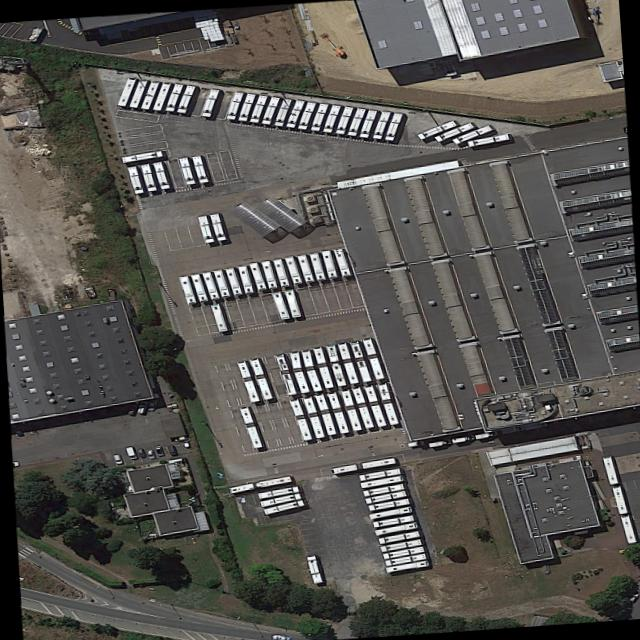large-vehicle: (329, 455, 396, 473), (226, 474, 292, 492), (237, 404, 262, 447), (248, 356, 272, 399), (287, 397, 311, 440), (362, 383, 386, 426), (235, 359, 259, 401), (313, 392, 337, 434), (349, 385, 373, 427), (298, 347, 321, 390), (375, 381, 398, 424), (325, 390, 348, 433), (338, 387, 361, 430), (348, 339, 371, 381), (335, 341, 358, 383), (273, 352, 296, 394), (301, 395, 324, 437), (287, 349, 309, 392), (361, 336, 383, 378), (311, 345, 333, 387), (432, 120, 476, 141), (324, 343, 345, 385), (450, 123, 493, 143), (415, 118, 458, 138), (261, 498, 306, 514), (372, 520, 418, 535), (366, 504, 412, 519), (258, 491, 303, 506), (363, 488, 408, 503), (377, 528, 421, 543), (255, 484, 301, 498), (384, 558, 429, 572), (358, 473, 403, 487), (383, 551, 428, 565), (378, 537, 423, 551), (366, 496, 411, 510), (361, 481, 406, 495), (381, 544, 425, 558), (371, 513, 415, 527), (466, 132, 510, 146), (295, 100, 316, 128), (356, 467, 401, 480), (208, 302, 228, 331), (382, 111, 402, 140), (357, 108, 377, 137), (333, 104, 353, 133), (321, 103, 341, 132), (308, 101, 328, 130), (200, 87, 220, 116), (115, 76, 135, 105), (119, 149, 163, 162), (610, 483, 629, 513), (600, 454, 619, 484), (284, 98, 304, 126), (618, 512, 636, 543), (331, 247, 350, 276), (270, 290, 289, 319), (371, 109, 390, 138), (346, 106, 365, 135), (260, 94, 279, 123), (248, 93, 267, 122), (151, 81, 170, 110), (139, 79, 158, 108), (304, 554, 323, 583), (247, 260, 265, 290), (283, 254, 301, 284), (272, 97, 291, 125), (224, 90, 243, 118), (175, 84, 194, 112), (163, 82, 182, 110), (127, 78, 146, 106), (307, 251, 325, 280), (295, 253, 313, 282), (223, 266, 241, 295), (211, 268, 229, 297), (200, 270, 218, 299), (189, 272, 207, 301), (177, 275, 195, 304), (237, 91, 255, 120), (271, 257, 288, 287), (196, 214, 214, 242), (126, 164, 143, 193), (208, 211, 225, 240), (259, 259, 276, 288), (283, 288, 300, 317), (138, 161, 155, 190), (177, 155, 194, 184), (320, 248, 336, 278), (151, 160, 168, 188), (190, 154, 207, 182), (236, 264, 252, 293), (520, 419, 548, 430), (447, 433, 474, 443), (473, 428, 498, 438), (425, 437, 448, 446), (502, 425, 520, 434), (404, 438, 424, 446)
small-vehicle: (123, 400, 136, 414), (124, 445, 136, 458), (136, 399, 146, 413), (165, 444, 177, 455), (146, 398, 156, 411), (172, 434, 188, 442), (153, 444, 163, 455), (144, 448, 154, 458), (627, 591, 637, 601), (112, 453, 122, 463), (270, 634, 290, 639), (135, 447, 144, 456), (636, 583, 640, 589)
